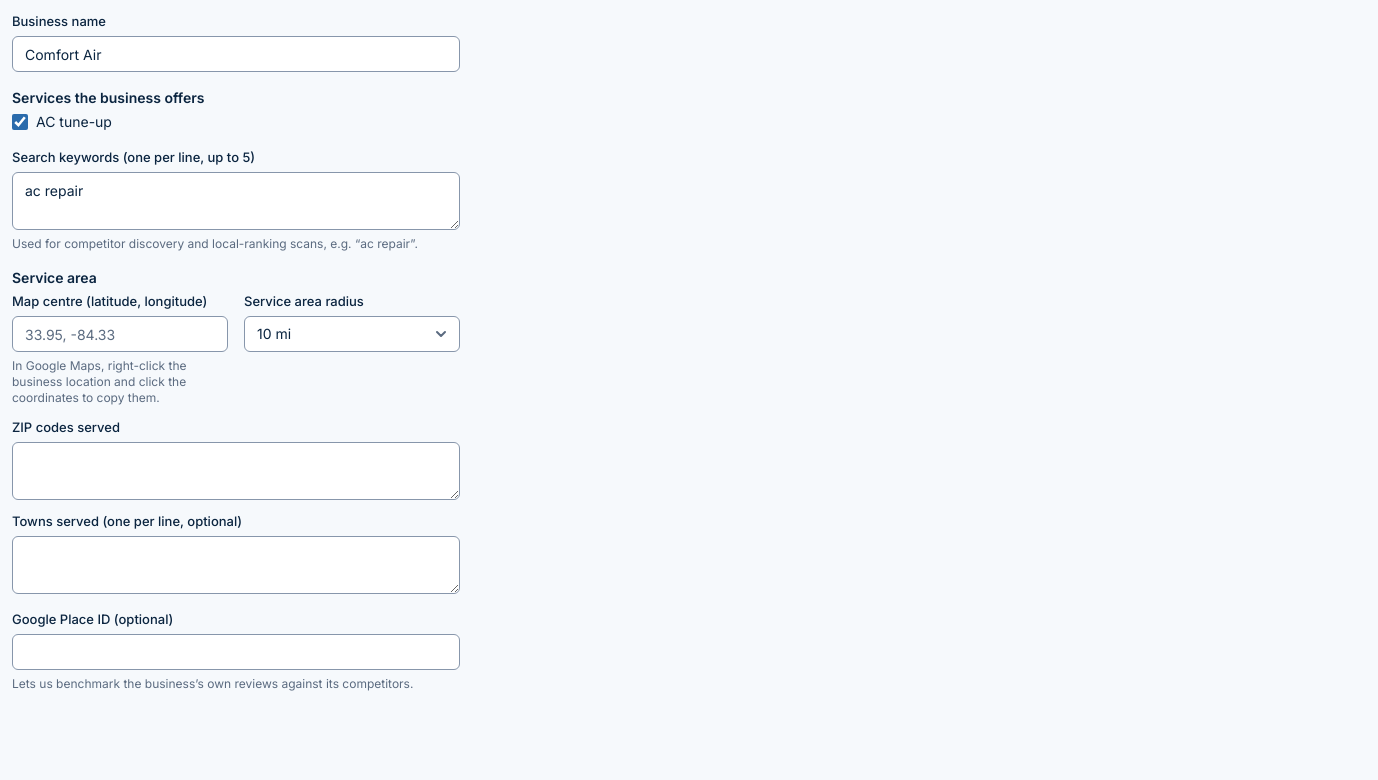
Test case: ClientProfileForm save bar › profile success line shows after save and the bar hides
Replace the text in the field labelled "Business name" with "Comfort Air Co" at coordinates (236, 54), box [12,36,460,72]
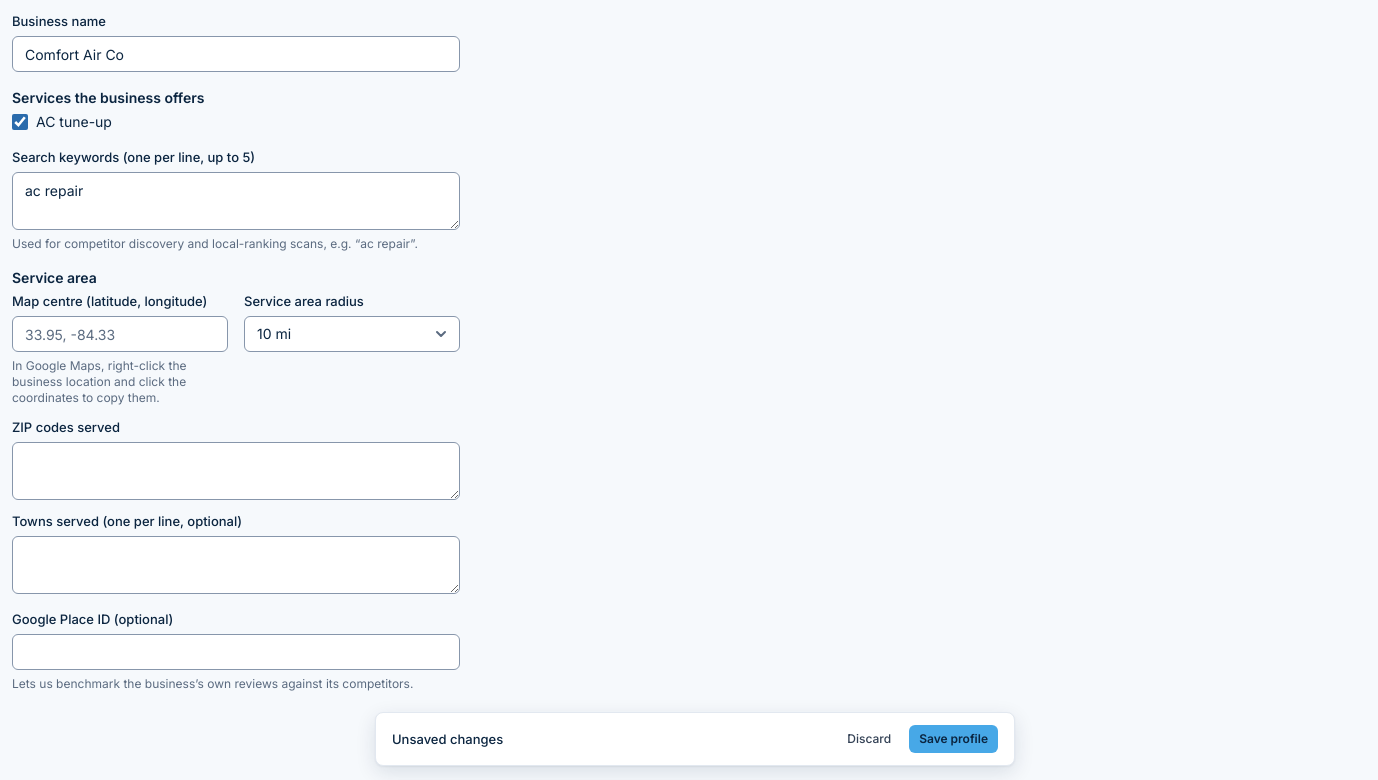
Click the button "Save profile".
click(954, 739)  # box [909,725,998,753]
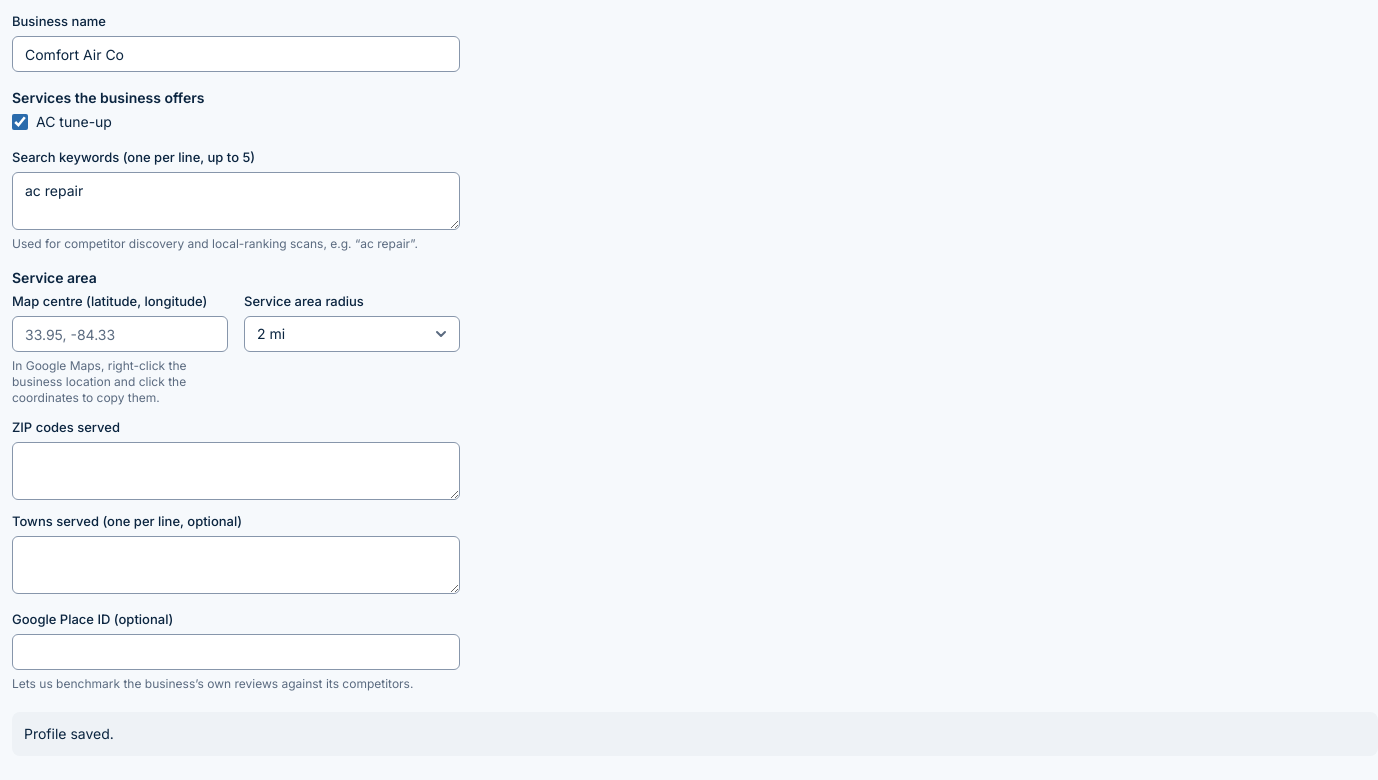
Now the text "Profile saved." is shown, box [12,712,1377,756]
Now the button "Save profile" is gone
// typing again hides the stale success line
Replace the text in the field labelled "Business name" with "Comfort Air Inc" at coordinates (236, 54), box [12,36,460,72]
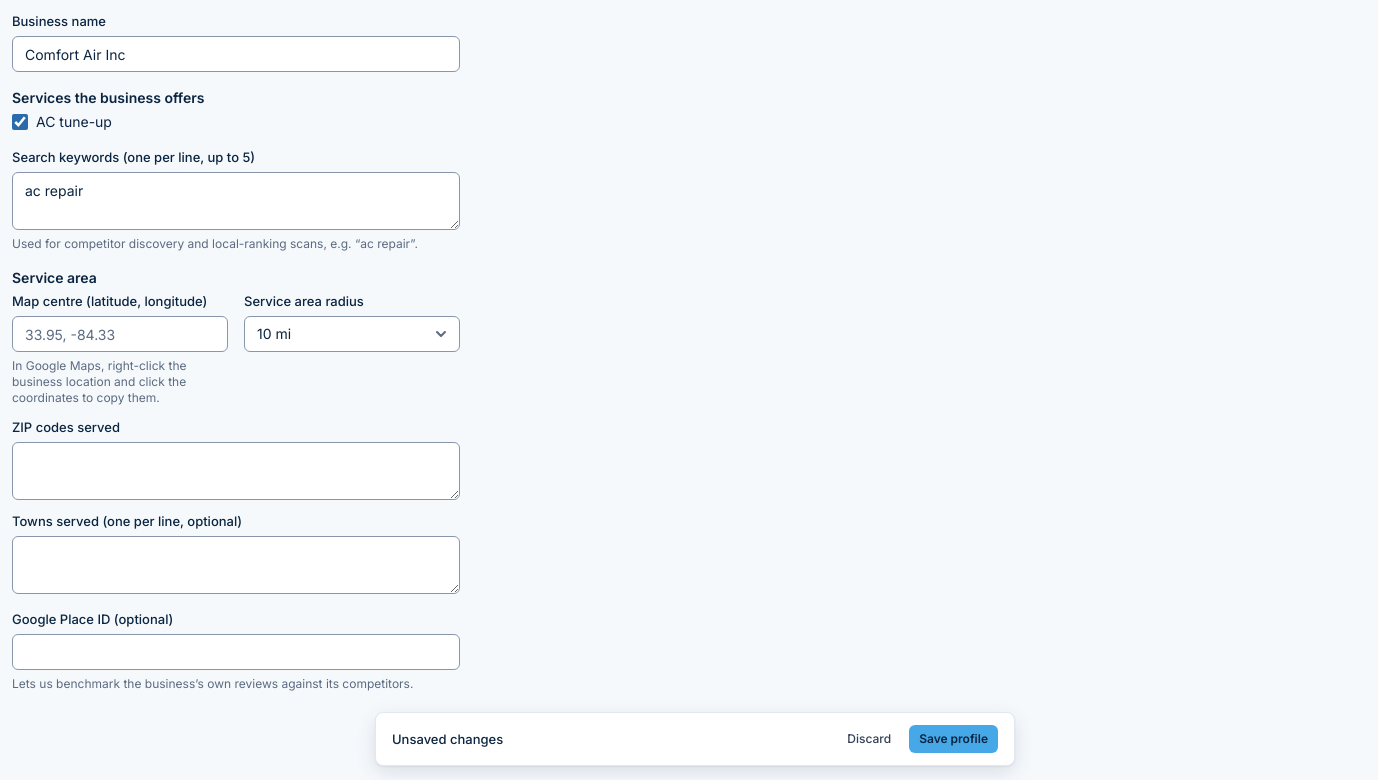
Now the text "Profile saved." is gone
